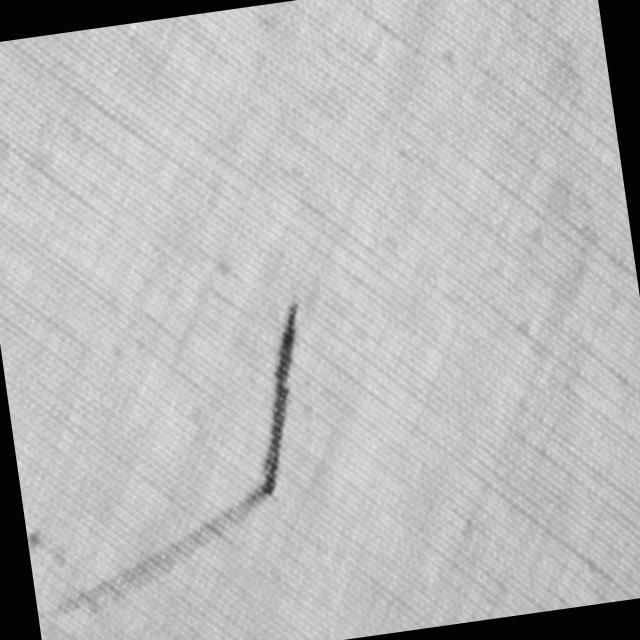oil spot: (29, 487, 280, 622), (233, 296, 325, 498)
